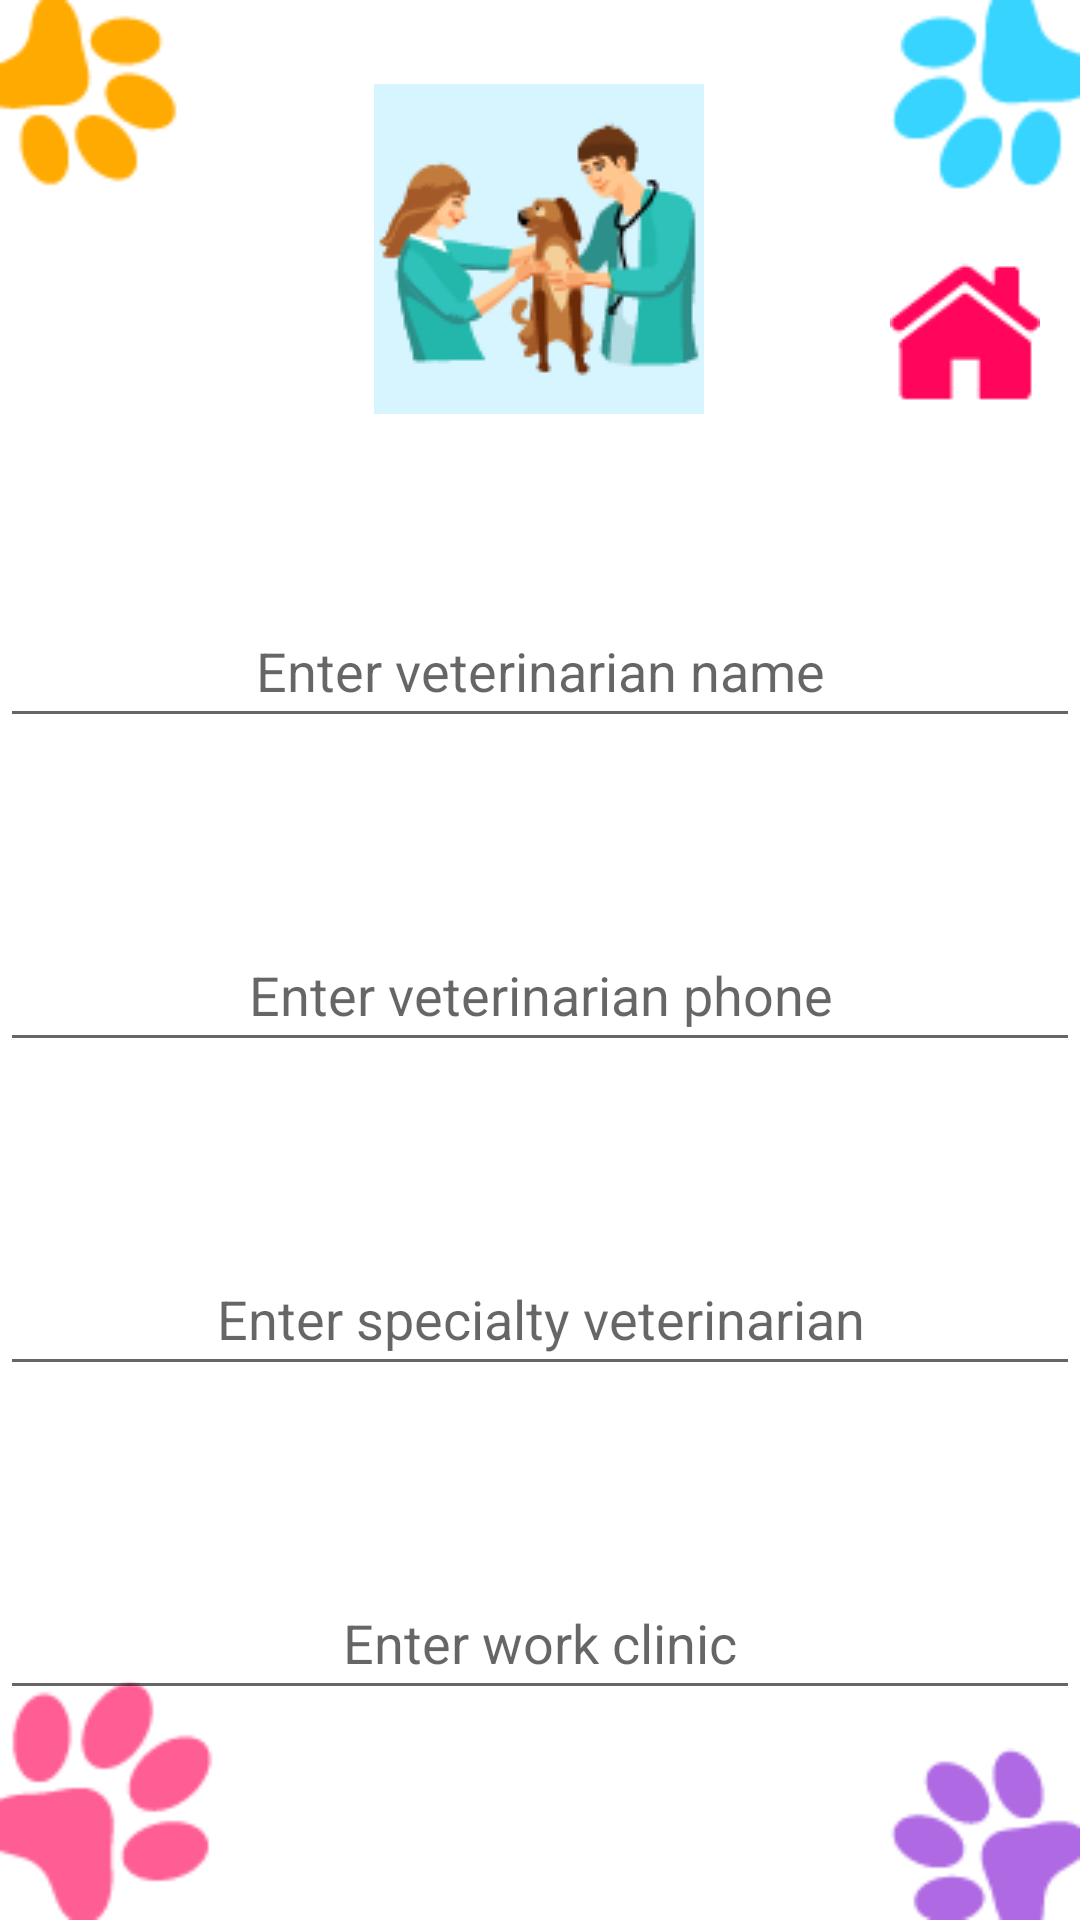

Named icons in this screenshot (1080×1920) and their bounding boxes, (x1, y1, x2, y2):
veterinary: (374, 84, 704, 414)
